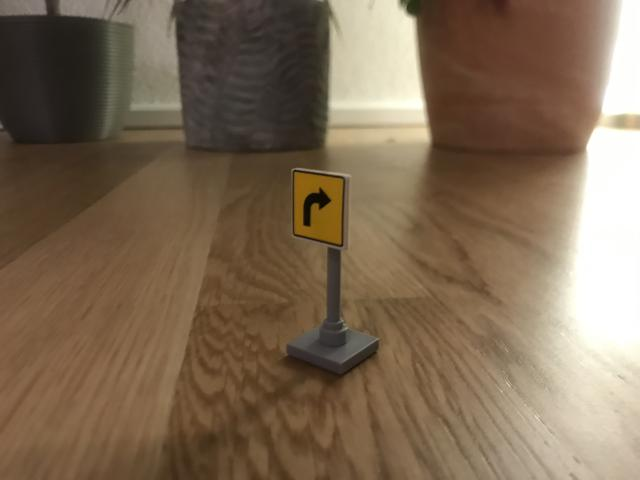fahrtrichtung rechts: (288, 168, 357, 255)
